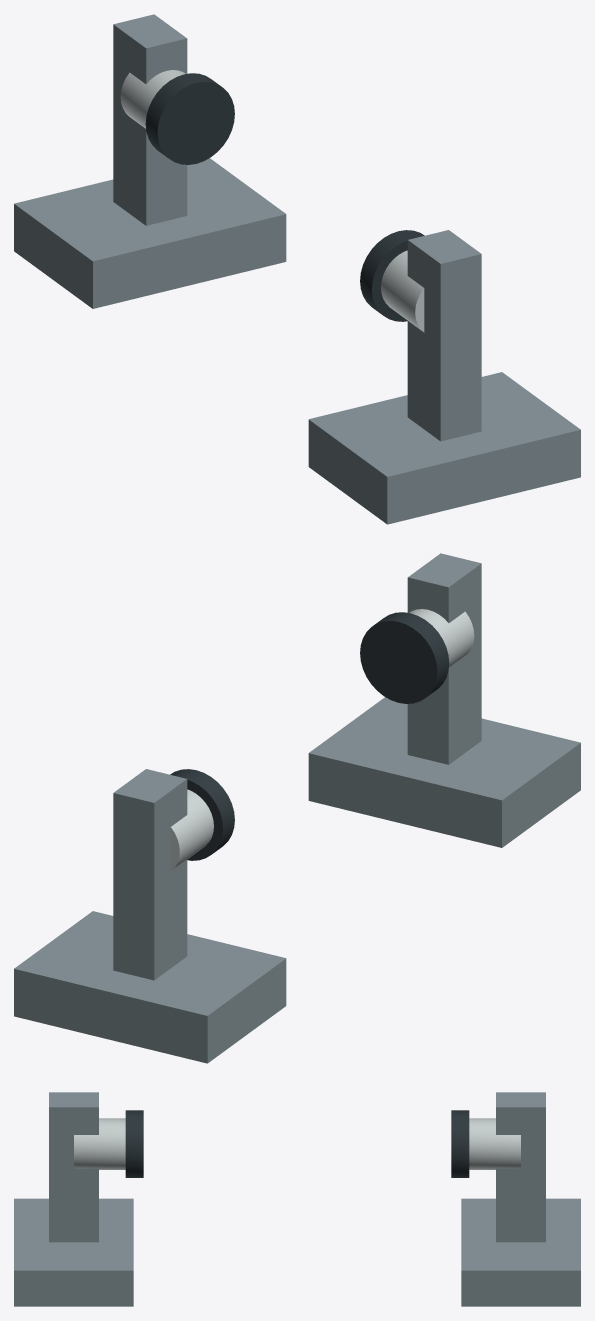
The model's file is grease_head.dae.
3 views of the same model, one above another, from view 1: azimuth 30°, elevation 25°; view 2: azimuth 150°, elevation 25°; view 3: azimuth 270°, elevation 25° (orthographic). The views are drawn at different scales.
Parts seen in each view (by area): view 1: grease_head; view 2: grease_head; view 3: grease_head.
Boxes of the visible parts, left/top/right/bottom form: grease_head: left=14, top=14, right=580, bottom=524; grease_head: left=14, top=553, right=580, bottom=1063; grease_head: left=14, top=1092, right=580, bottom=1306.
Size of the model in its own units: 0.85 by 2.84 by 0.945.
